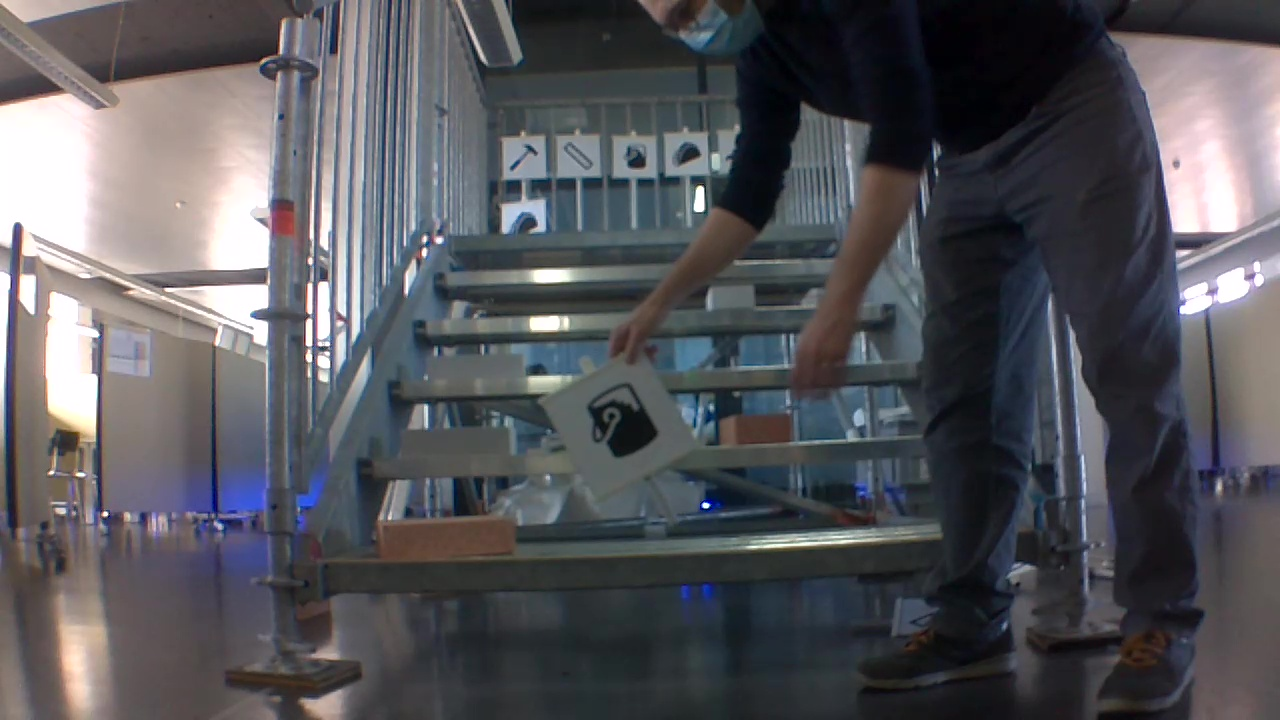brick: (376, 517, 515, 559), (402, 426, 513, 457), (427, 354, 524, 380), (718, 415, 790, 444), (706, 286, 754, 308)
bucket: (581, 381, 664, 464), (618, 139, 650, 171)
edge: (323, 528, 1039, 591)
hammer: (504, 139, 539, 173)
ruler: (557, 140, 595, 175)
taco: (669, 136, 701, 172), (501, 208, 538, 234)
